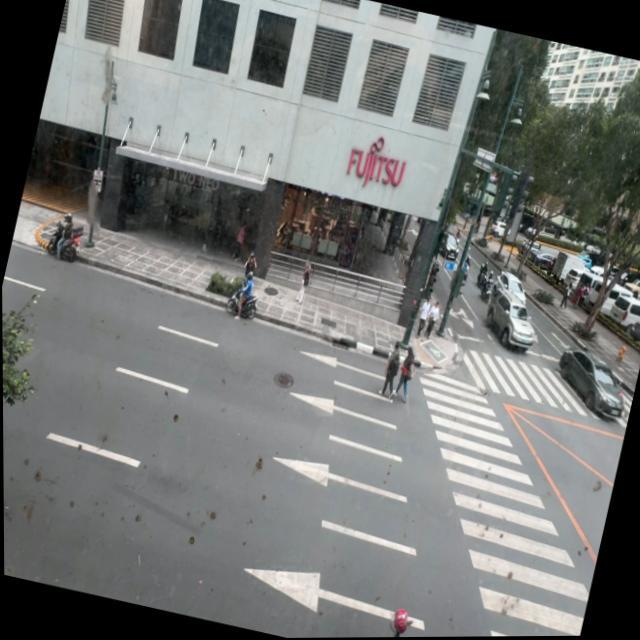jaywalking: (392, 343, 420, 403), (378, 340, 404, 400)
